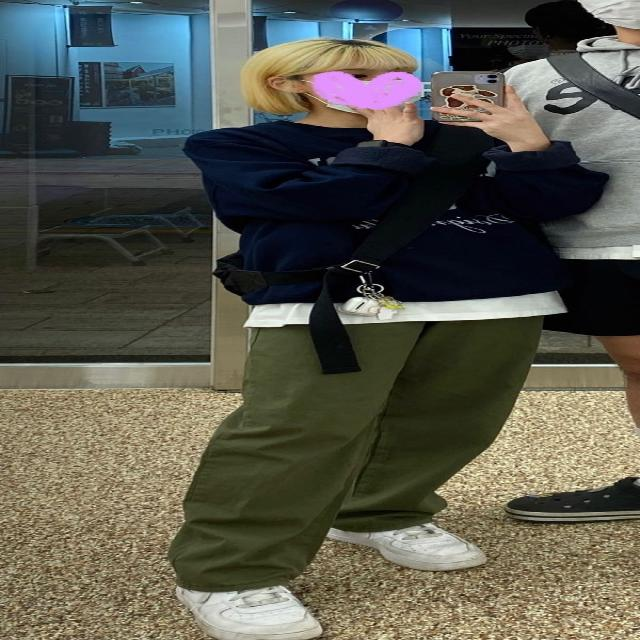cottonpants: (170, 306, 550, 595)
mtm: (187, 120, 611, 309)
